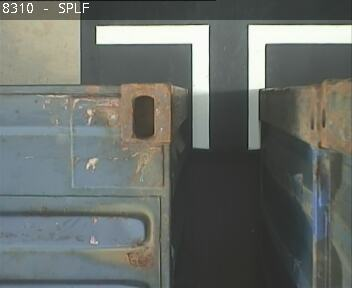groundmarker_1: (93, 23, 349, 148)
